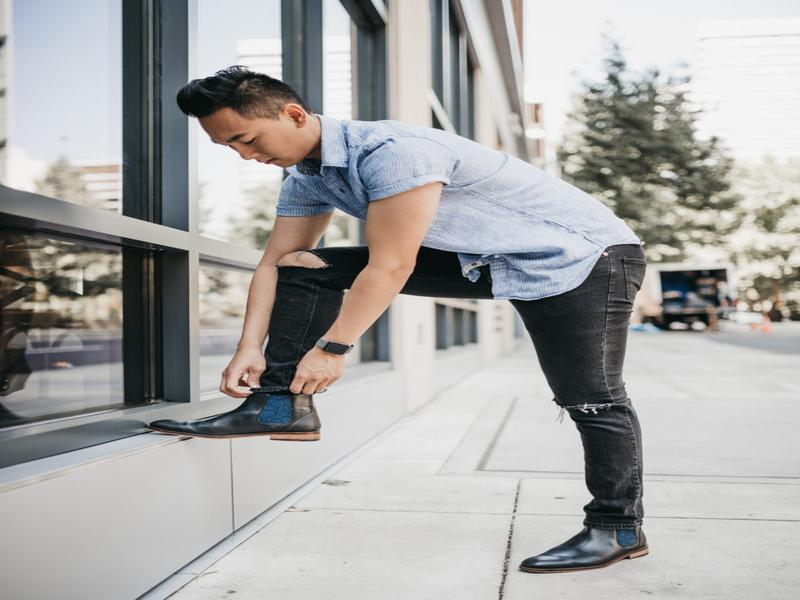shoes_men_chelsea_chelseaboots_leather_none_none_black_none: (143, 387, 337, 449), (510, 519, 670, 575)
